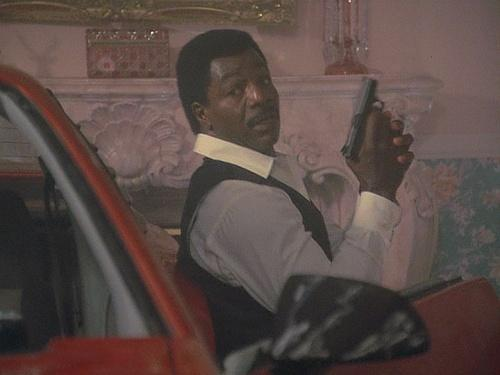Gun: (341, 77, 383, 162)
